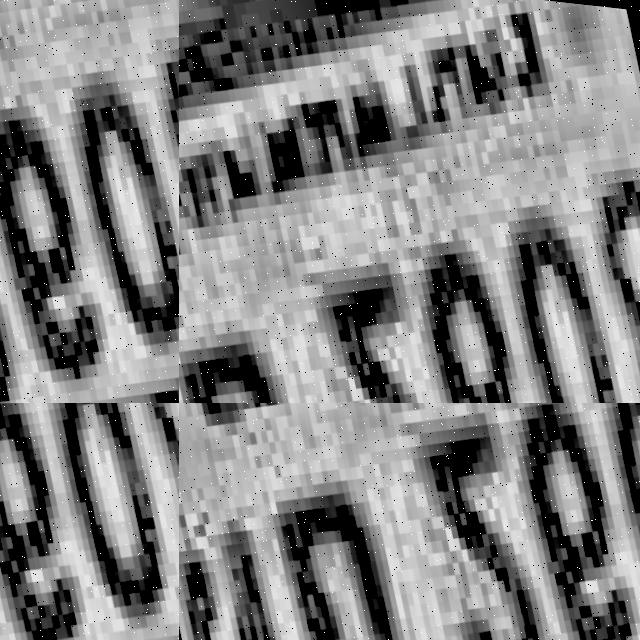license-plate: (179, 0, 640, 403), (179, 403, 640, 640), (0, 0, 179, 403), (0, 403, 179, 640)
